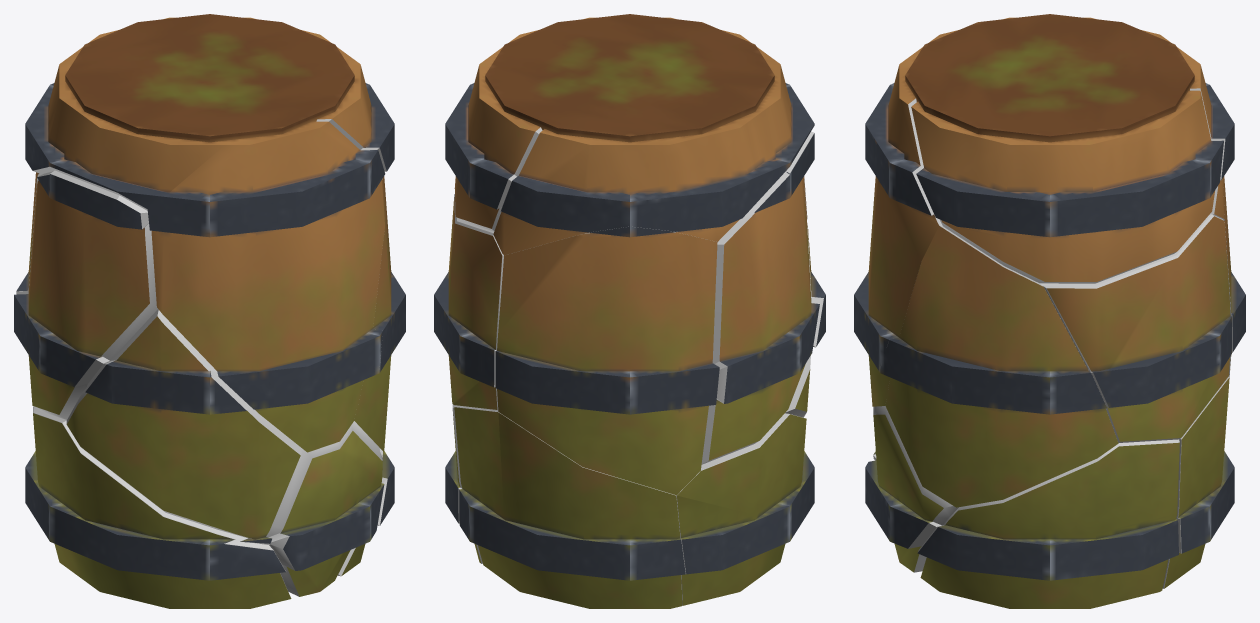
The model's file is Kit_Props_Barrel_Fractured.fbx.
3 renders of one model, left to right at view 1: azimuth 30°, elevation 25°; view 2: azimuth 150°, elevation 25°; view 3: azimuth 270°, elevation 25°, orthographic.
Visible parts, largest first — view 1: Kit_Props_Barrel_frag_08, Kit_Props_Barrel_frag_06, Kit_Props_Barrel_frag_10, Kit_Props_Barrel_frag_01, Kit_Props_Barrel_frag_02, Kit_Props_Barrel_frag_07, Kit_Props_Barrel_frag_11, Kit_Props_Barrel_frag_05, Kit_Props_Barrel_frag_12; view 2: Kit_Props_Barrel_frag_06, Kit_Props_Barrel_frag_04, Kit_Props_Barrel_frag_09, Kit_Props_Barrel_frag_02, Kit_Props_Barrel_frag_01, Kit_Props_Barrel_frag_03, Kit_Props_Barrel_frag_05, Kit_Props_Barrel_frag_10, Kit_Props_Barrel_frag_12; view 3: Kit_Props_Barrel_frag_11, Kit_Props_Barrel_frag_05, Kit_Props_Barrel_frag_12, Kit_Props_Barrel_frag_06, Kit_Props_Barrel_frag_03, Kit_Props_Barrel_frag_08, Kit_Props_Barrel_frag_09, Kit_Props_Barrel_frag_07, Kit_Props_Barrel_frag_04.
Boxes of the visible parts, x1,y1,x2,y2 form: Kit_Props_Barrel_frag_08: (147,121,385,452); Kit_Props_Barrel_frag_06: (25,14,354,210); Kit_Props_Barrel_frag_10: (66,309,302,544); Kit_Props_Barrel_frag_01: (25,406,291,608); Kit_Props_Barrel_frag_02: (14,170,157,419); Kit_Props_Barrel_frag_07: (266,421,384,596); Kit_Props_Barrel_frag_11: (354,176,405,451); Kit_Props_Barrel_frag_05: (163,17,394,171); Kit_Props_Barrel_frag_12: (337,447,394,576); Kit_Props_Barrel_frag_06: (485,14,814,255); Kit_Props_Barrel_frag_04: (495,226,719,495); Kit_Props_Barrel_frag_09: (454,407,685,608); Kit_Props_Barrel_frag_02: (701,131,819,464); Kit_Props_Barrel_frag_01: (676,413,814,605); Kit_Props_Barrel_frag_03: (434,194,503,411); Kit_Props_Barrel_frag_05: (445,17,595,231); Kit_Props_Barrel_frag_10: (785,225,825,417); Kit_Props_Barrel_frag_12: (445,404,482,563); Kit_Props_Barrel_frag_11: (879,225,1118,507); Kit_Props_Barrel_frag_05: (911,90,1223,283); Kit_Props_Barrel_frag_12: (917,439,1179,608); Kit_Props_Barrel_frag_06: (905,14,1234,219); Kit_Props_Barrel_frag_03: (1040,214,1231,442); Kit_Props_Barrel_frag_08: (854,55,942,406); Kit_Props_Barrel_frag_09: (1162,376,1234,588); Kit_Props_Barrel_frag_07: (865,406,958,572); Kit_Props_Barrel_frag_04: (1223,176,1245,376).
Size of what is drawn, in the model's own units: 0.704 by 0.932 by 0.704.
